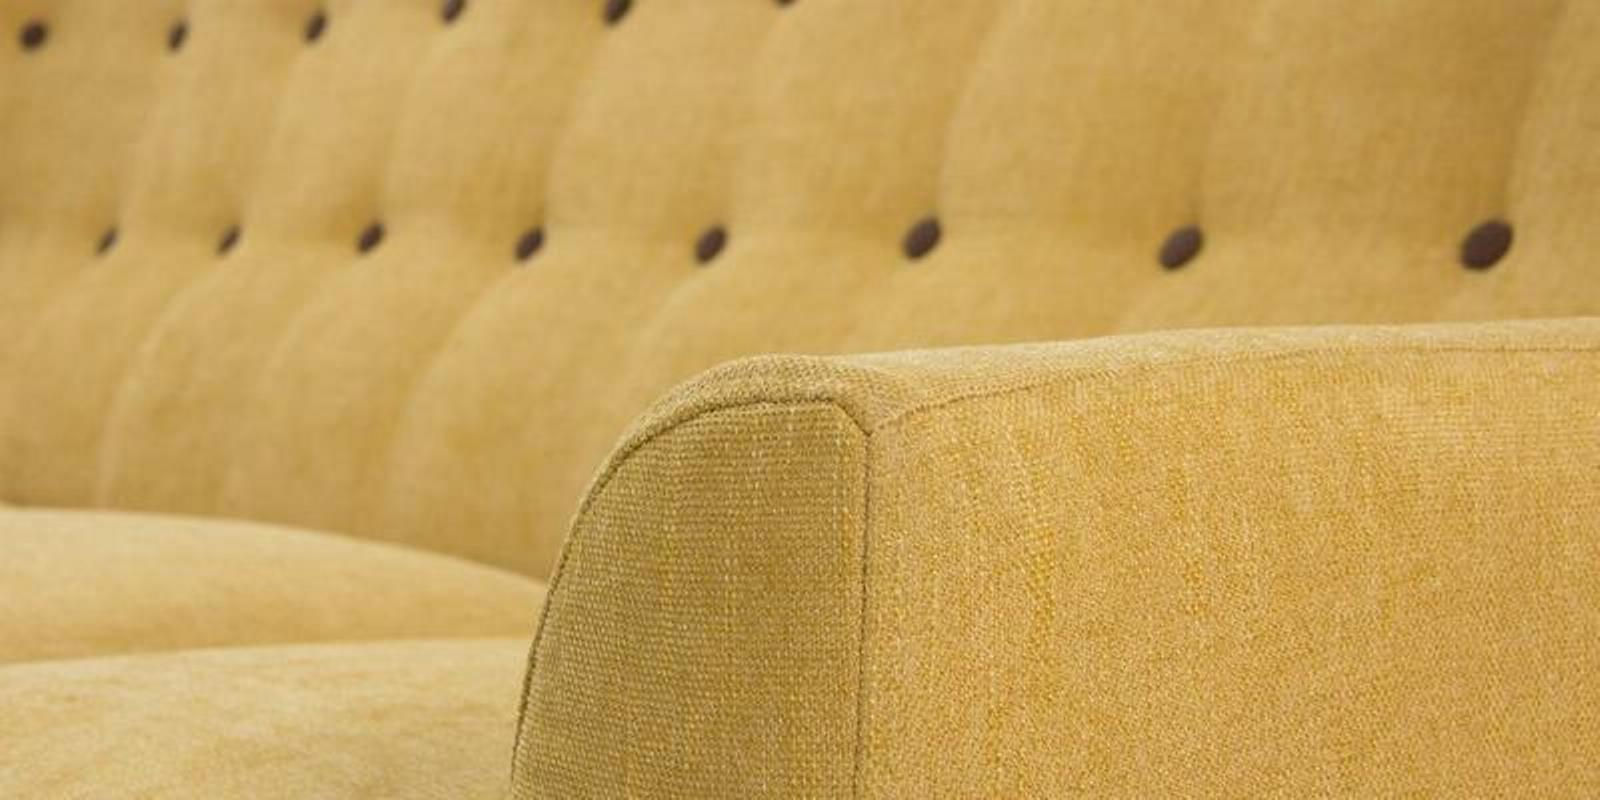Havana Three Seater Sofa in Ochre Colour by CasaCraft: (5, 1, 1600, 800)
